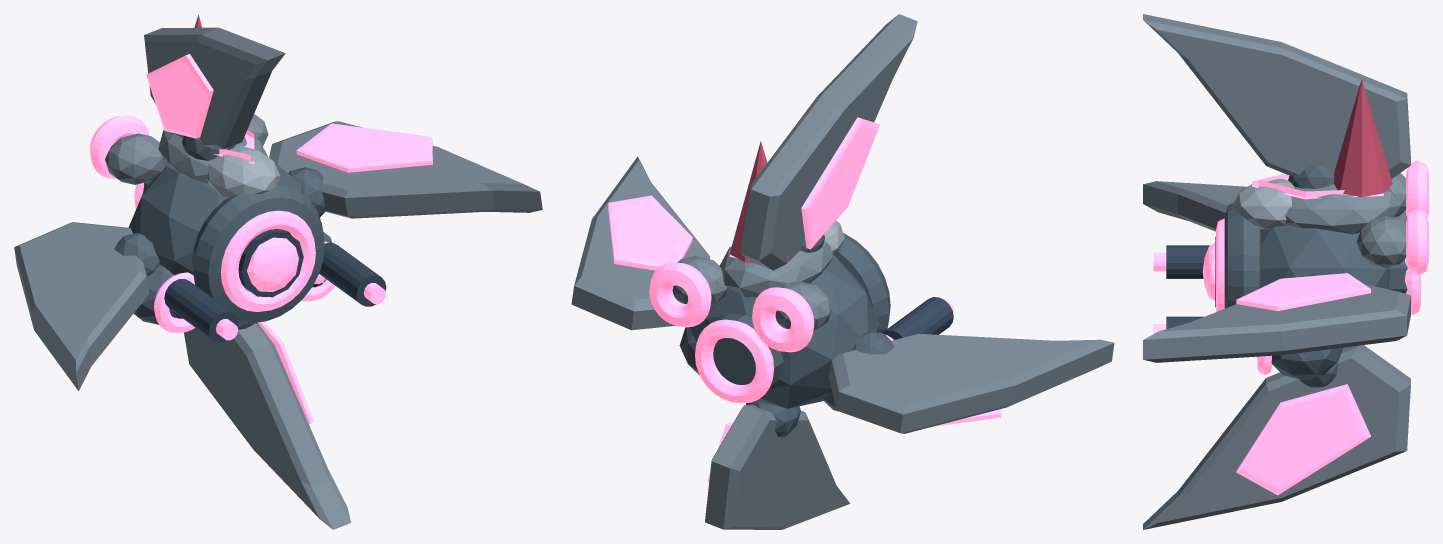
The model's file is drone_c.glb.
3 views of the same model, side by side, from view 1: azimuth 30°, elevation 25°; view 2: azimuth 150°, elevation 25°; view 3: azimuth 270°, elevation 25° (orthographic). The views are drawn at different scales.
Parts seen in each view (by area): view 1: group_slate, group_red, group_graphite, group_black, group_steel; view 2: group_slate, group_red, group_graphite, group_black, group_ruby; view 3: group_slate, group_red, group_graphite, group_ruby, group_steel, group_black.
Part boxes in pixels (left/top/right/bottom): group_slate: left=14, top=27, right=542, bottom=529; group_red: left=90, top=54, right=432, bottom=423; group_graphite: left=114, top=135, right=331, bottom=329; group_black: left=164, top=229, right=386, bottom=342; group_steel: left=206, top=146, right=280, bottom=197; group_slate: left=571, top=14, right=1114, bottom=529; group_red: left=608, top=117, right=1001, bottom=482; group_graphite: left=679, top=233, right=894, bottom=437; group_black: left=882, top=297, right=953, bottom=339; group_ruby: left=729, top=141, right=789, bottom=262; group_slate: left=1143, top=14, right=1410, bottom=529; group_red: left=1153, top=160, right=1428, bottom=495; group_graphite: left=1224, top=164, right=1407, bottom=387; group_ruby: left=1334, top=79, right=1392, bottom=196; group_steel: left=1232, top=179, right=1294, bottom=229; group_black: left=1166, top=236, right=1256, bottom=356.
Size of the model in its own units: 4.1 by 4.1 by 2.21.
